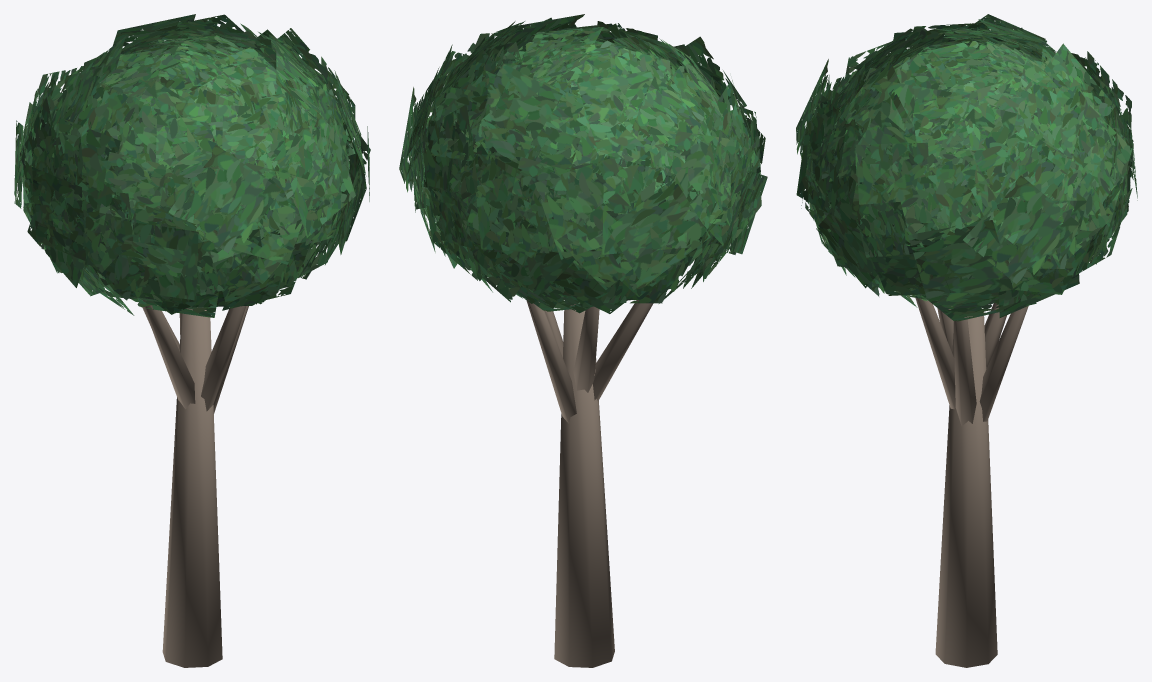
File: tree-broadleaf-b.glb
The picture shows the model from 3 angles, left to right: view 1: azimuth 30°, elevation 25°; view 2: azimuth 150°, elevation 25°; view 3: azimuth 270°, elevation 25°; orthographic projection.
Visible parts, largest first — view 1: leaf-cards, trunk; view 2: leaf-cards, trunk; view 3: leaf-cards, trunk.
Boxes of the visible parts, left/top/right/bottom form: leaf-cards: left=14, top=14, right=370, bottom=317; trunk: left=142, top=300, right=248, bottom=667; leaf-cards: left=399, top=14, right=767, bottom=313; trunk: left=526, top=299, right=653, bottom=667; leaf-cards: left=796, top=14, right=1137, bottom=321; trunk: left=915, top=298, right=1028, bottom=667.
Size of the model in its own units: 4 by 7.4 by 3.74.
Materials: 3 (1 with a texture image).
